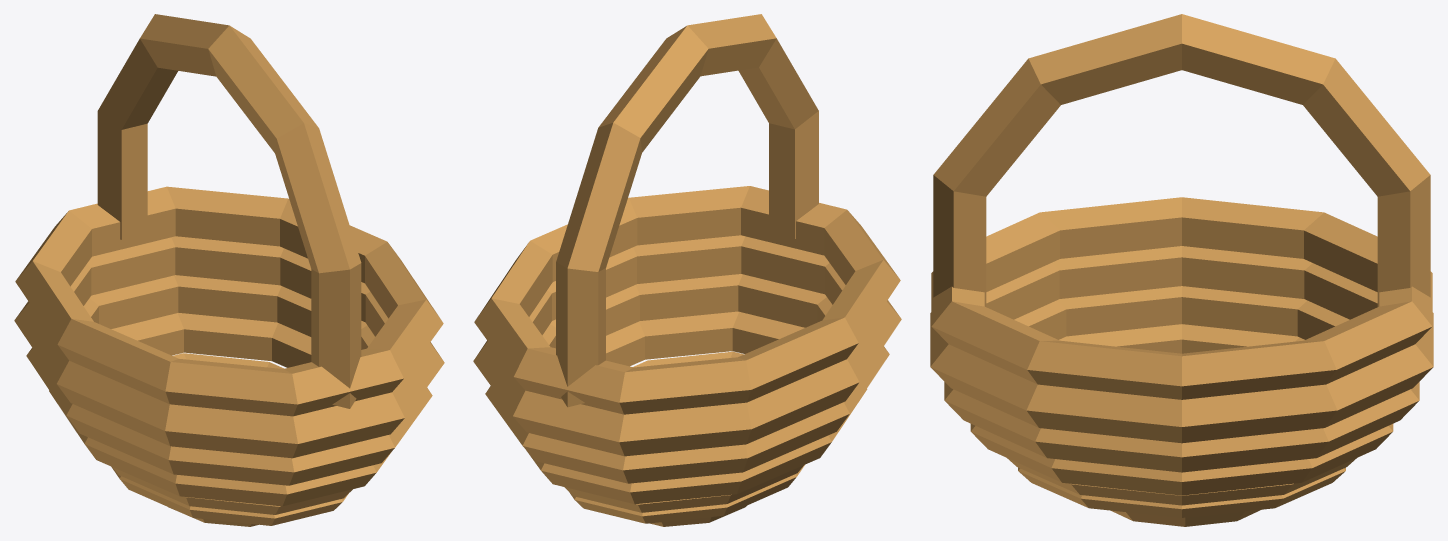
File: корзина.fbx
The picture shows the model from 3 angles, left to right: view 1: azimuth 30°, elevation 25°; view 2: azimuth 150°, elevation 25°; view 3: azimuth 270°, elevation 25°; orthographic projection. The views are drawn at different scales.
Parts seen in each view (by area): view 1: Torus.003; view 2: Torus.003; view 3: Torus.003.
Boxes of the visible parts, bbox=[...] form: Torus.003: bbox=[14, 14, 444, 526]; Torus.003: bbox=[473, 14, 901, 526]; Torus.003: bbox=[930, 14, 1433, 526].
Size of the model in its own units: 42.29 by 54.74 by 51.73.
